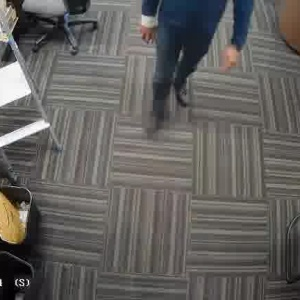person: (139, 0, 225, 128)
